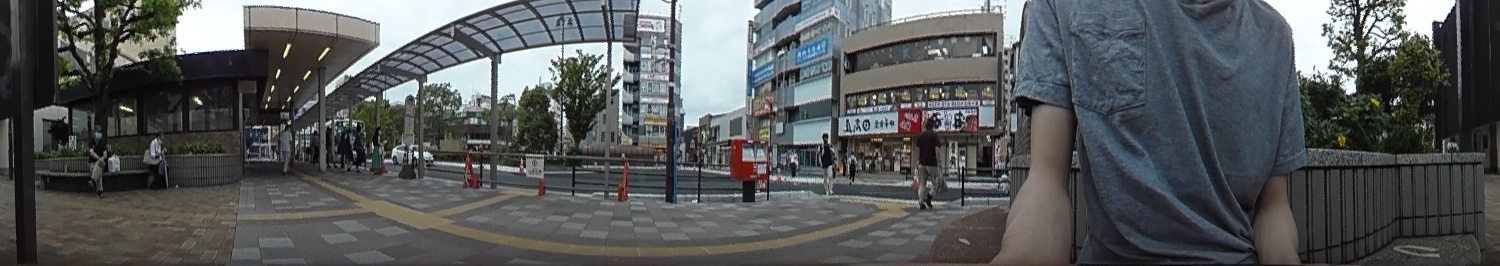difficult_person: (276, 123, 293, 174), (353, 122, 365, 169), (371, 126, 383, 170), (309, 128, 319, 164), (344, 128, 352, 165), (787, 149, 797, 174)
person: (913, 118, 940, 210), (85, 123, 106, 189), (817, 132, 836, 196), (149, 132, 171, 186)
